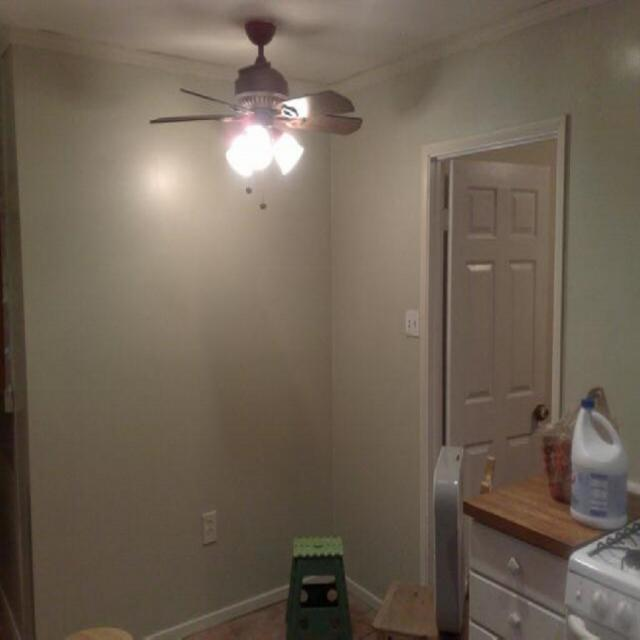fan_off: (152, 22, 362, 138)
